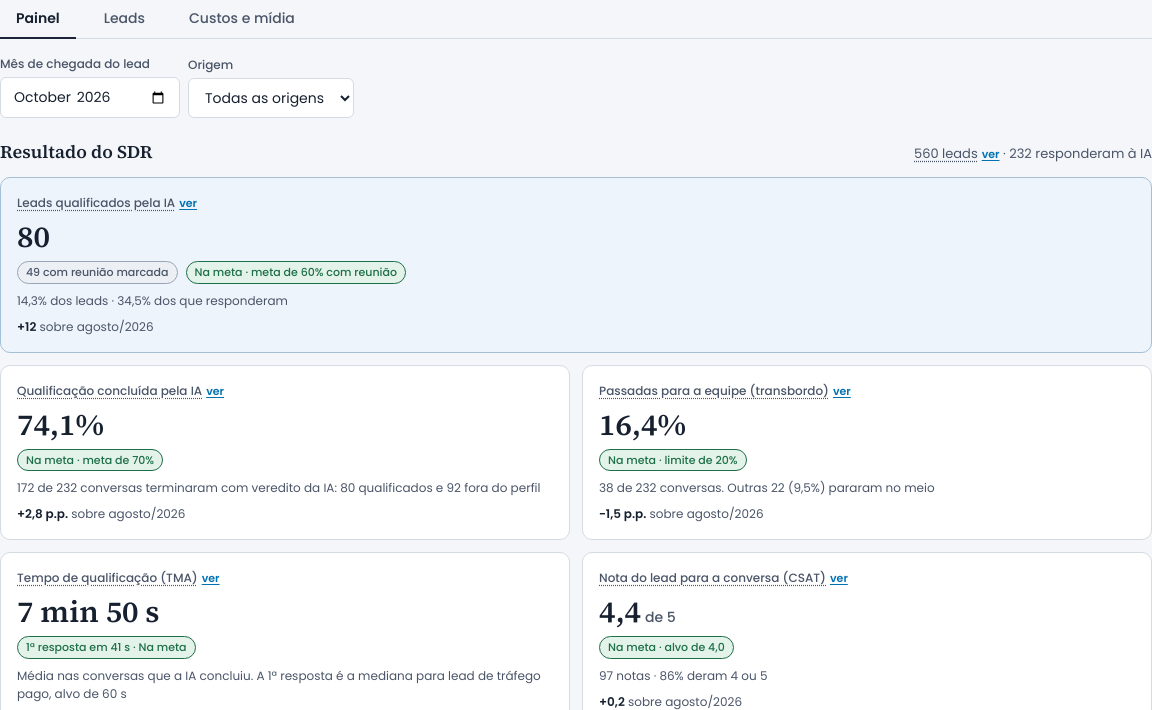
Test: custos e mídia › cada painel tem uma ação primária só
Click the tab "Custos e mídia" at {"x": 242, "y": 20}, box [173,0,311,39]
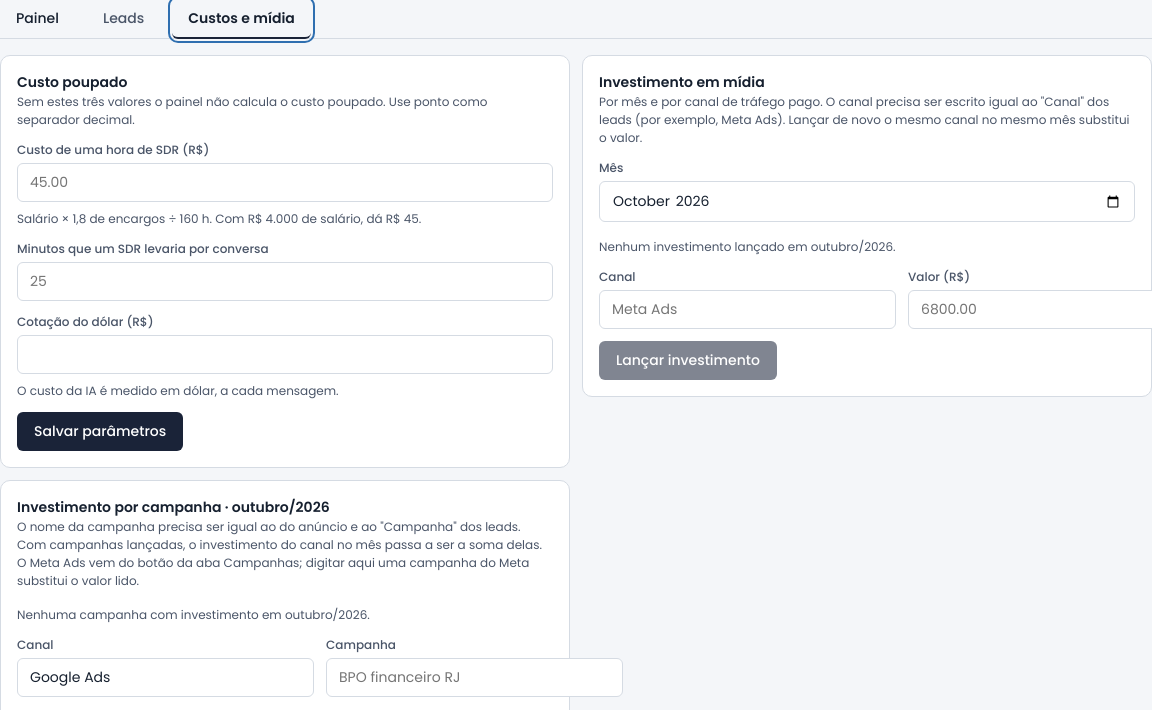
Expected: the field labelled "Custo de uma hora de SDR (R$)" is shown, [17,163,553,202]
